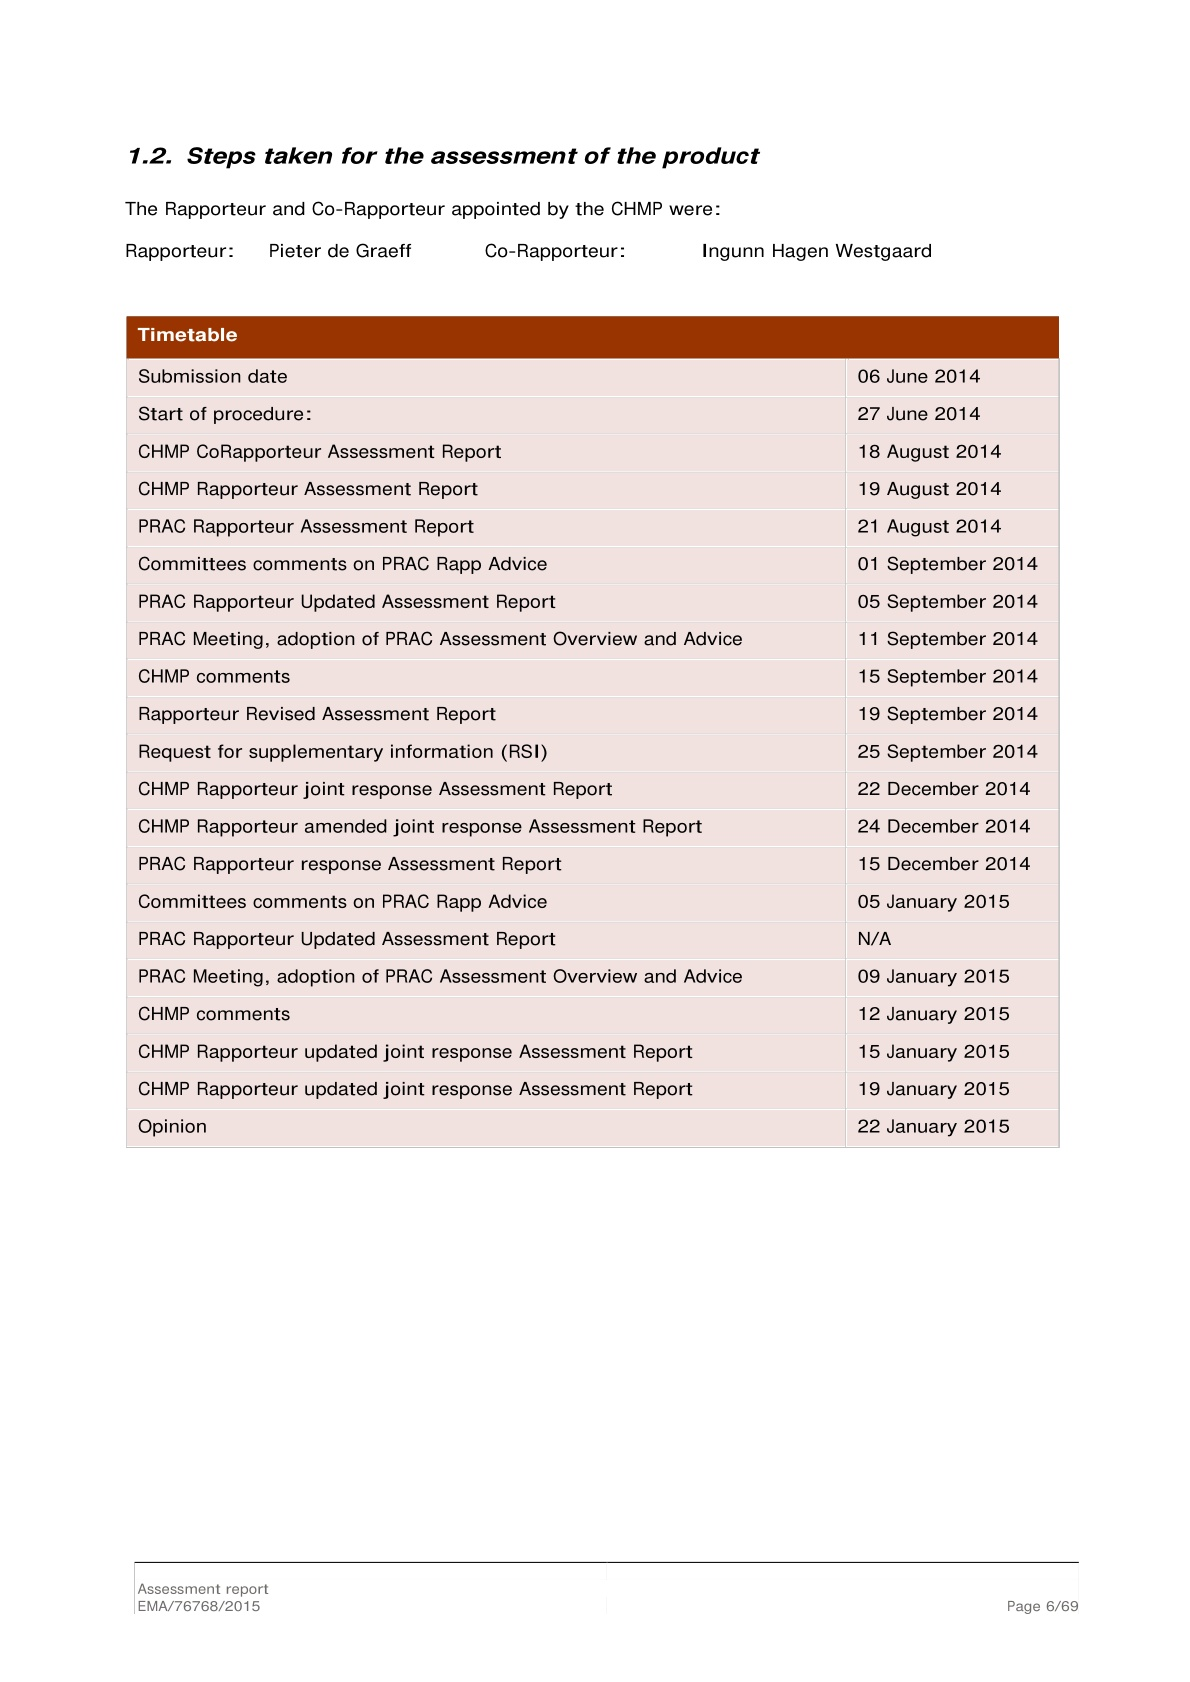merged_cells: (125, 314, 1060, 1148)
